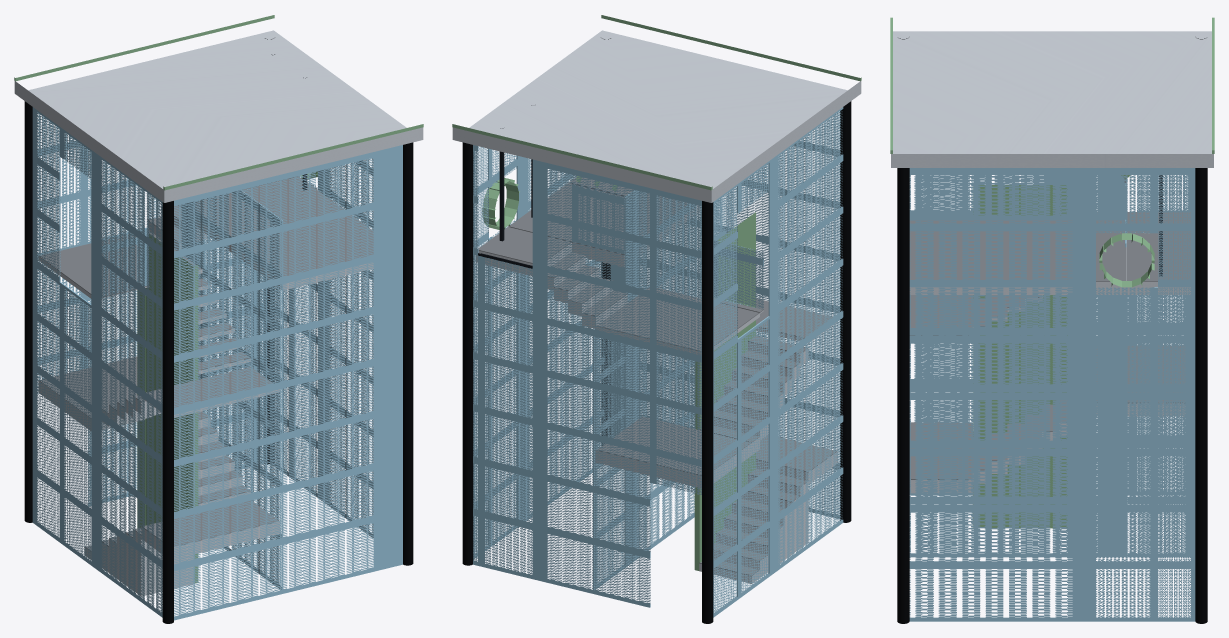
Rendered from tt_slide_tower_t2.glb.
The picture shows the model from 3 angles, left to right: view 1: azimuth 30°, elevation 25°; view 2: azimuth 150°, elevation 25°; view 3: azimuth 270°, elevation 25°; orthographic projection. The views are drawn at different scales.
Visible parts, largest first — view 1: Enclosure_Scissor, Roof, Columns, Treads_Slate, Spine_Wall, Stair_Cast, Deck_Finish, Fascia_Band, Deck; view 2: Enclosure_Scissor, Roof, Columns, Treads_Slate, Stair_Cast, Spine_Wall, Deck_Finish, Fascia_Band, Deck, Slide_Tube, Gate_Posts; view 3: Enclosure_Scissor, Roof, Columns, Deck_Finish, Spine_Wall, Treads_Slate, Deck, Stair_Cast, Slide_Tube, Fascia_Band.
Boxes of the visible parts, left/top/right/bottom form: Enclosure_Scissor: left=32, top=107, right=402, bottom=620; Roof: left=14, top=30, right=423, bottom=202; Columns: left=24, top=38, right=413, bottom=623; Treads_Slate: left=38, top=196, right=278, bottom=551; Spine_Wall: left=137, top=234, right=198, bottom=582; Stair_Cast: left=38, top=199, right=279, bottom=596; Deck_Finish: left=196, top=176, right=373, bottom=275; Fascia_Band: left=14, top=15, right=423, bottom=190; Deck: left=195, top=178, right=373, bottom=290; Enclosure_Scissor: left=473, top=107, right=843, bottom=617; Roof: left=452, top=30, right=861, bottom=202; Columns: left=462, top=38, right=851, bottom=623; Treads_Slate: left=547, top=253, right=836, bottom=575; Stair_Cast: left=547, top=256, right=837, bottom=583; Spine_Wall: left=694, top=212, right=755, bottom=570; Deck_Finish: left=478, top=177, right=687, bottom=263; Fascia_Band: left=452, top=15, right=861, bottom=190; Deck: left=476, top=205, right=701, bottom=275; Slide_Tube: left=482, top=178, right=519, bottom=229; Gate_Posts: left=499, top=105, right=532, bottom=241; Enclosure_Scissor: left=909, top=168, right=1195, bottom=621; Roof: left=891, top=31, right=1213, bottom=167; Columns: left=897, top=38, right=1207, bottom=623; Deck_Finish: left=909, top=220, right=1190, bottom=281; Spine_Wall: left=973, top=185, right=1067, bottom=528; Treads_Slate: left=910, top=212, right=1190, bottom=479; Deck: left=909, top=240, right=1190, bottom=294; Stair_Cast: left=910, top=298, right=1185, bottom=493; Slide_Tube: left=1099, top=233, right=1154, bottom=287; Fascia_Band: left=890, top=17, right=1214, bottom=153.
Size of what is drawn, in the model's own units: 5.2 by 8.46 by 5.22.
Materials: 8 (5 with a texture image).
